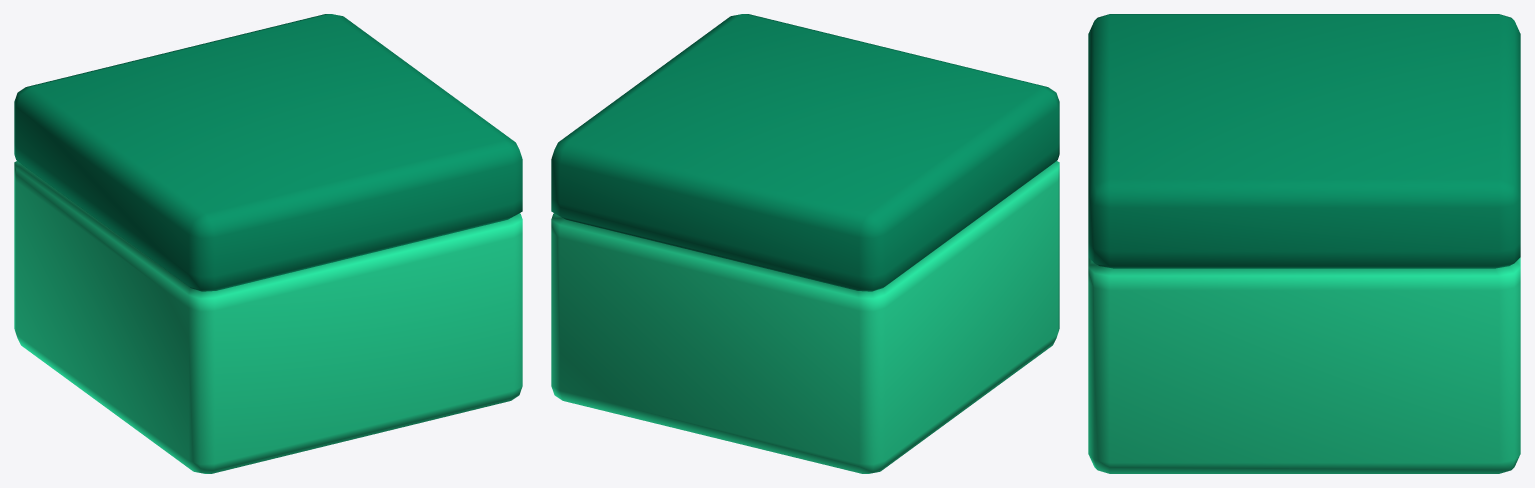
Rendered from Counter_F_01_C01.fbx.
3 renders of one model, left to right at view 1: azimuth 30°, elevation 25°; view 2: azimuth 150°, elevation 25°; view 3: azimuth 270°, elevation 25°, orthographic. The views are drawn at different scales.
Parts seen in each view (by area): view 1: Counter_F_01_C01; view 2: Counter_F_01_C01; view 3: Counter_F_01_C01.
Boxes of the visible parts, left/top/right/bottom form: Counter_F_01_C01: left=14, top=14, right=522, bottom=473; Counter_F_01_C01: left=551, top=14, right=1059, bottom=473; Counter_F_01_C01: left=1088, top=14, right=1520, bottom=473.
Size of the model in its own units: 100 by 75 by 100.
